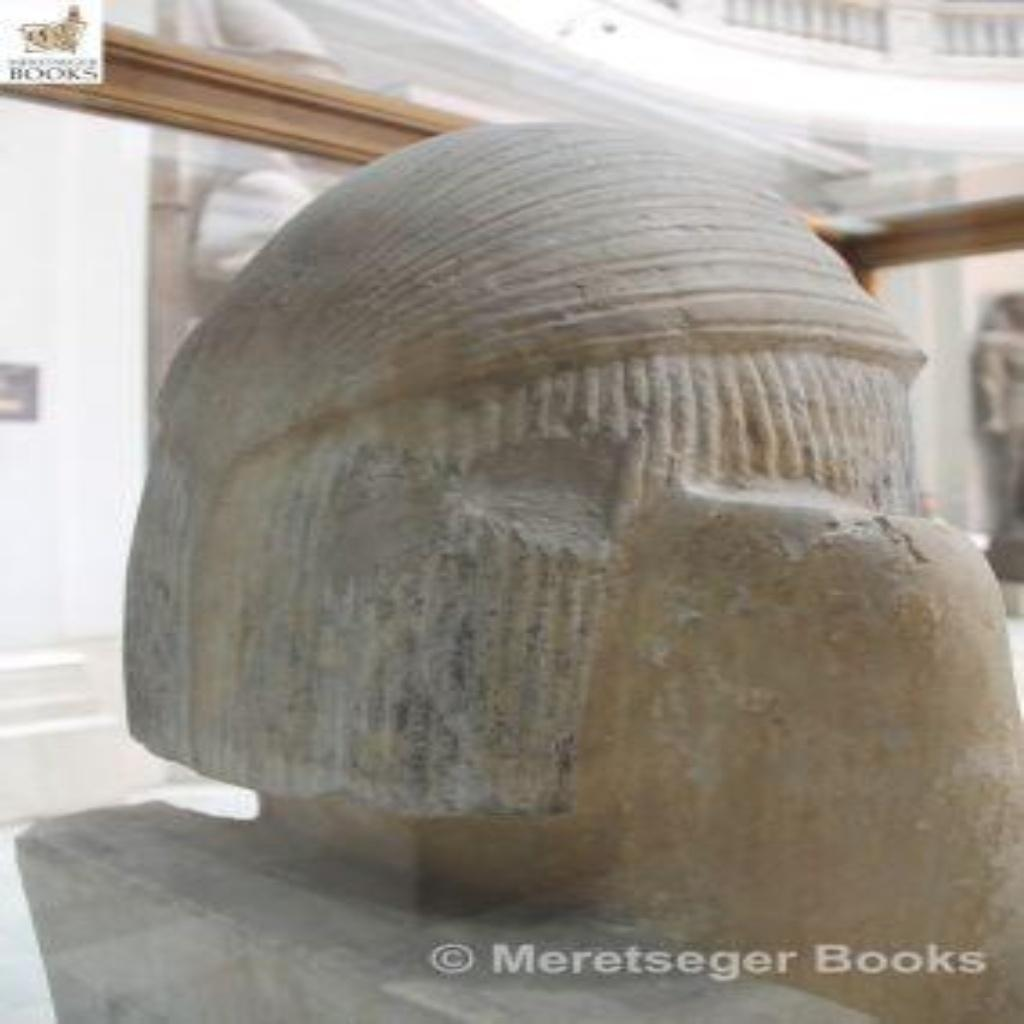Statue of King Zoser: (10, 116, 1020, 1022)
